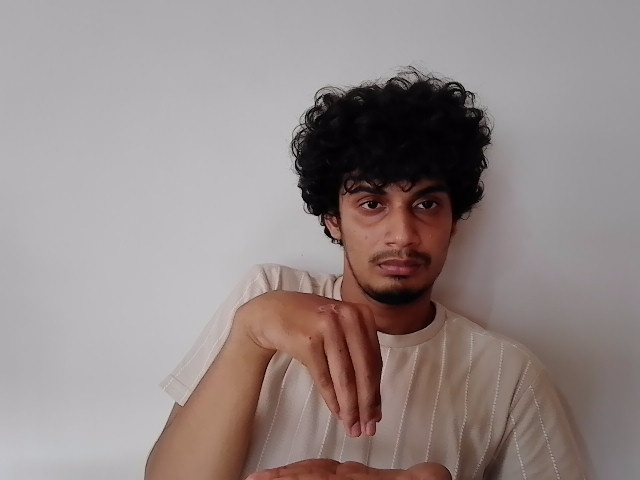learn: (245, 287, 455, 480)
